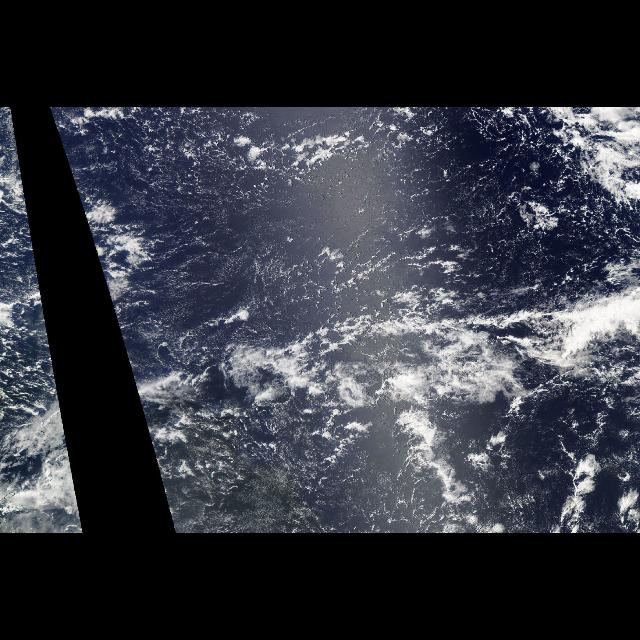Gravel: (70, 107, 640, 309), (170, 298, 394, 534)
Sugar: (121, 156, 297, 340), (184, 463, 408, 533)
